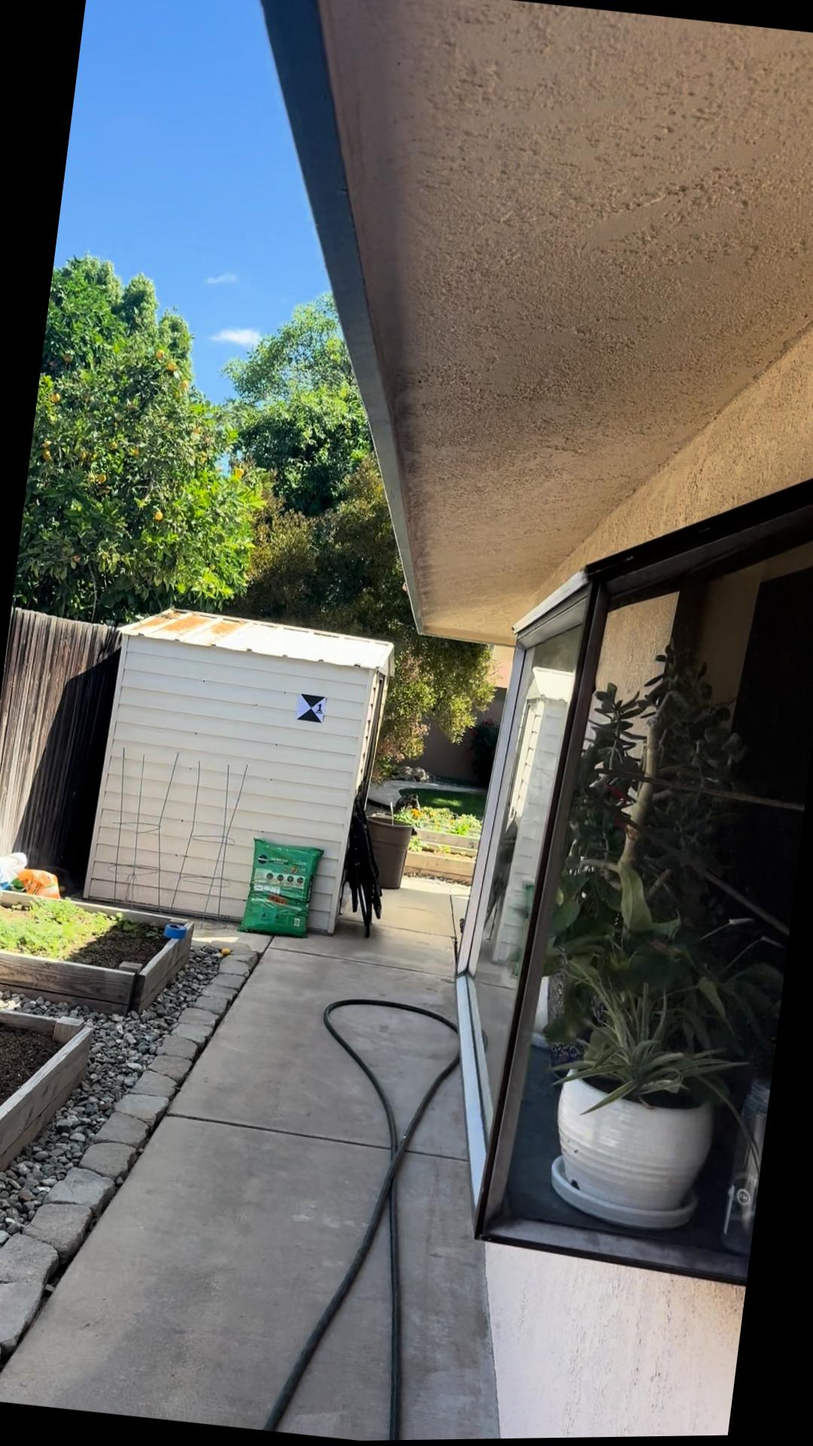target1: (295, 691, 328, 727)
